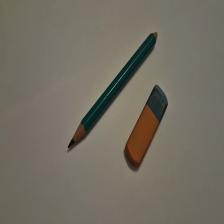eraser: (126, 85, 169, 168)
pencil: (69, 32, 159, 149)
